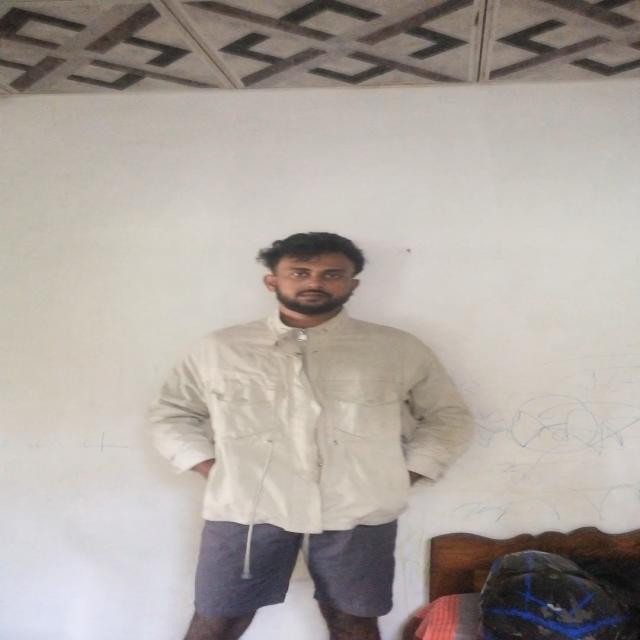Jacket_Wearer: (156, 301, 471, 557)
Person: (181, 219, 450, 622)
